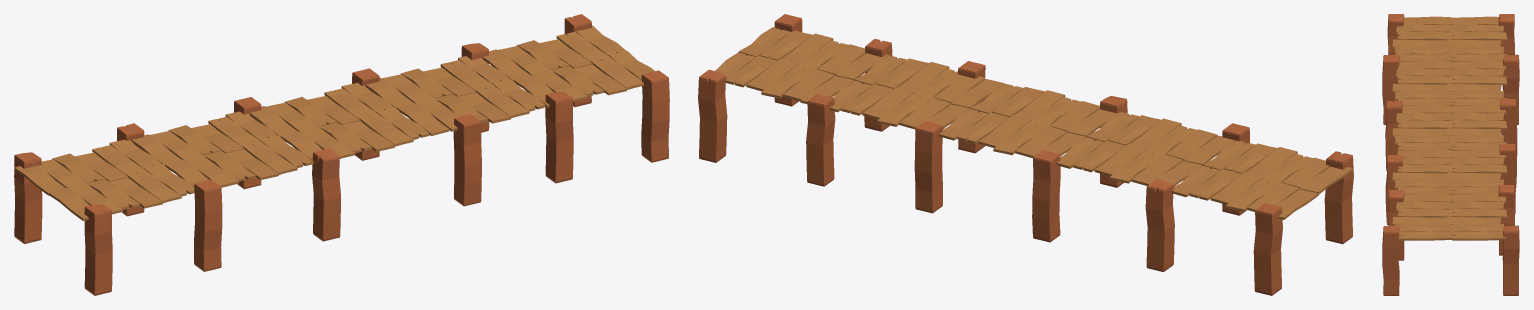
File: pier_de_madeira_low_poly.glb
The picture shows the model from 3 angles, left to right: view 1: azimuth 30°, elevation 25°; view 2: azimuth 150°, elevation 25°; view 3: azimuth 270°, elevation 25°; orthographic projection. The views are drawn at different scales.
Parts seen in each view (by area): view 1: Cube.015, Cube.028, Cube.027, Cube.032, Cube.024, Cube.025, Cube.026, Cube.031, Cube.029, Cube.021, Cube.022, Cube.030 (+2 smaller); view 2: Cube.028, Cube.015, Cube.023, Cube.030, Cube.021, Cube.029, Cube.022, Cube.018, Cube.031, Cube.024, Cube.026, Cube.027 (+2 smaller); view 3: Cube.015, Cube.028, Cube.025, Cube.023, Cube.030, Cube.032, Cube.027, Cube.022, Cube.021, Cube.018, Cube.024, Cube.029 (+2 smaller).
Boxes of the visible parts, left/top/right/bottom form: Cube.015: left=49, top=51, right=654, bottom=220; Cube.028: left=14, top=25, right=626, bottom=195; Cube.027: left=312, top=148, right=340, bottom=241; Cube.032: left=194, top=179, right=222, bottom=271; Cube.024: left=545, top=91, right=573, bottom=183; Cube.025: left=641, top=70, right=669, bottom=162; Cube.026: left=453, top=114, right=481, bottom=206; Cube.031: left=84, top=204, right=112, bottom=295; Cube.029: left=14, top=152, right=42, bottom=243; Cube.021: left=352, top=68, right=379, bottom=160; Cube.022: left=234, top=97, right=261, bottom=189; Cube.030: left=117, top=123, right=144, bottom=216; Cube.028: left=715, top=52, right=1318, bottom=219; Cube.015: left=738, top=27, right=1352, bottom=194; Cube.023: left=698, top=69, right=727, bottom=162; Cube.030: left=1145, top=179, right=1174, bottom=271; Cube.021: left=914, top=121, right=942, bottom=213; Cube.029: left=1253, top=203, right=1282, bottom=295; Cube.022: left=1032, top=150, right=1060, bottom=242; Cube.018: left=806, top=93, right=835, bottom=186; Cube.031: left=1324, top=151, right=1353, bottom=244; Cube.024: left=864, top=39, right=892, bottom=131; Cube.026: left=958, top=61, right=985, bottom=153; Cube.027: left=1100, top=96, right=1127, bottom=187; Cube.015: left=1392, top=16, right=1453, bottom=240; Cube.028: left=1446, top=16, right=1507, bottom=240; Cube.025: left=1382, top=226, right=1399, bottom=295; Cube.023: left=1502, top=225, right=1519, bottom=295; Cube.030: left=1502, top=54, right=1519, bottom=124; Cube.032: left=1382, top=55, right=1399, bottom=124; Cube.027: left=1385, top=100, right=1402, bottom=170; Cube.022: left=1500, top=99, right=1517, bottom=160; Cube.021: left=1499, top=144, right=1516, bottom=213; Cube.018: left=1498, top=185, right=1514, bottom=255; Cube.024: left=1387, top=190, right=1404, bottom=260; Cube.029: left=1498, top=14, right=1514, bottom=54.
Bounding box in the file's own units: 73.13 × 9.9 × 19.16.
